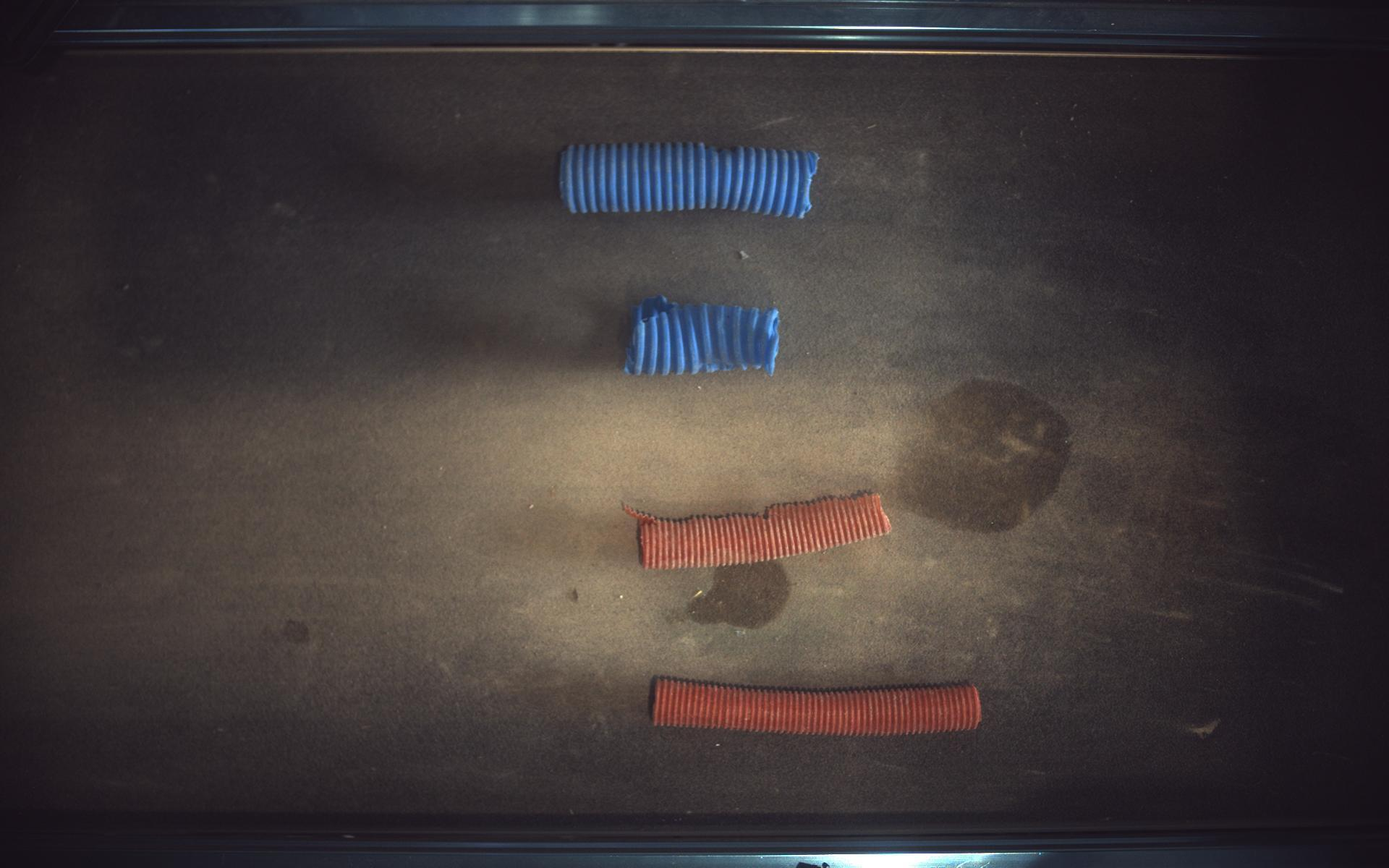pipes: (624, 493, 893, 570), (561, 141, 820, 217), (652, 678, 983, 737), (625, 295, 780, 375)
